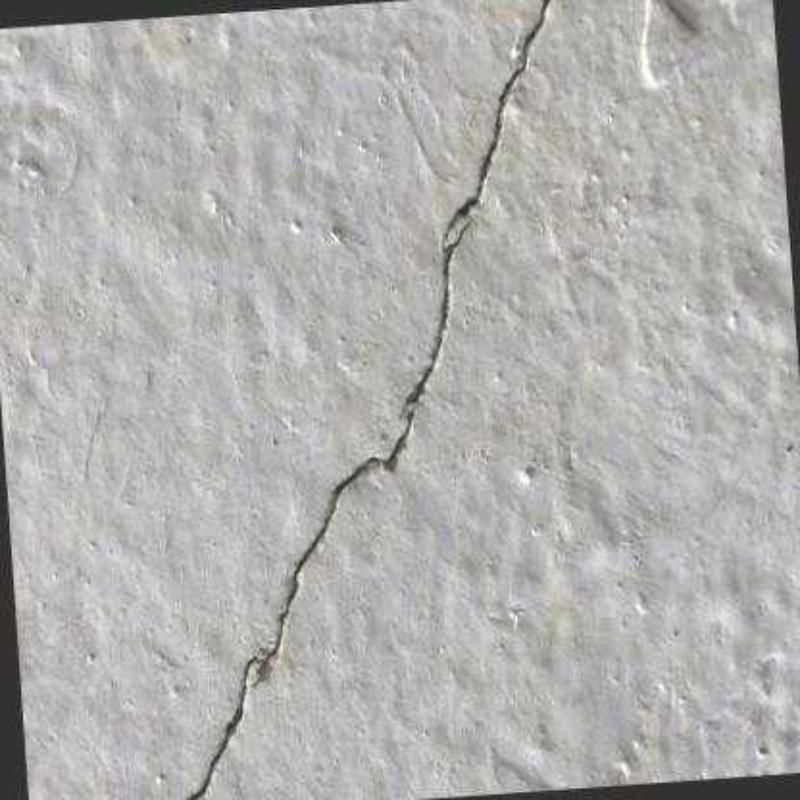crack: (181, 2, 550, 800)
